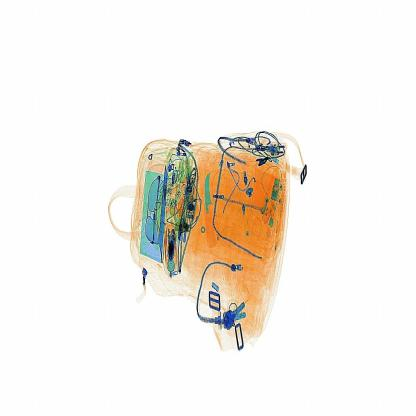wrench: (198, 164, 221, 256)
